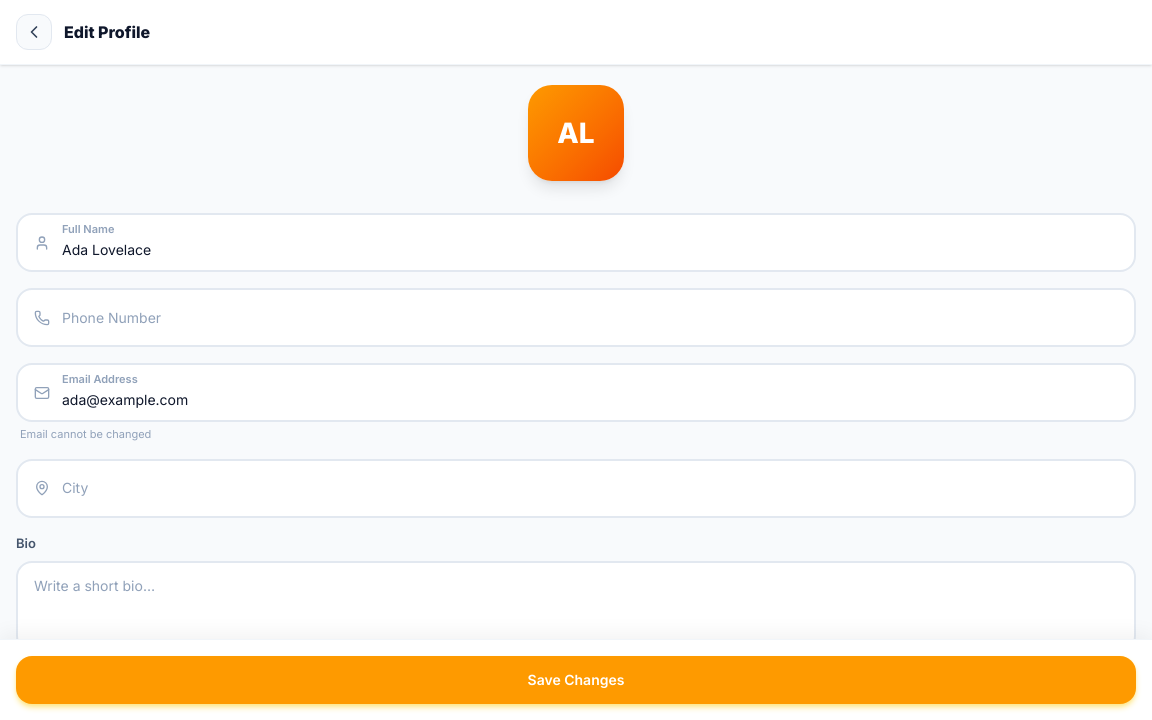
Scenario: EditProfilePage — Save Changes persists › shows the success state ONLY after the backend returns 200 (no fake setTimeout)
Expected: the field showing "Ada Lovelace" is shown, [18, 215, 1134, 270]
Click the button "Save Changes": point(576, 680) [16, 656, 1136, 704]
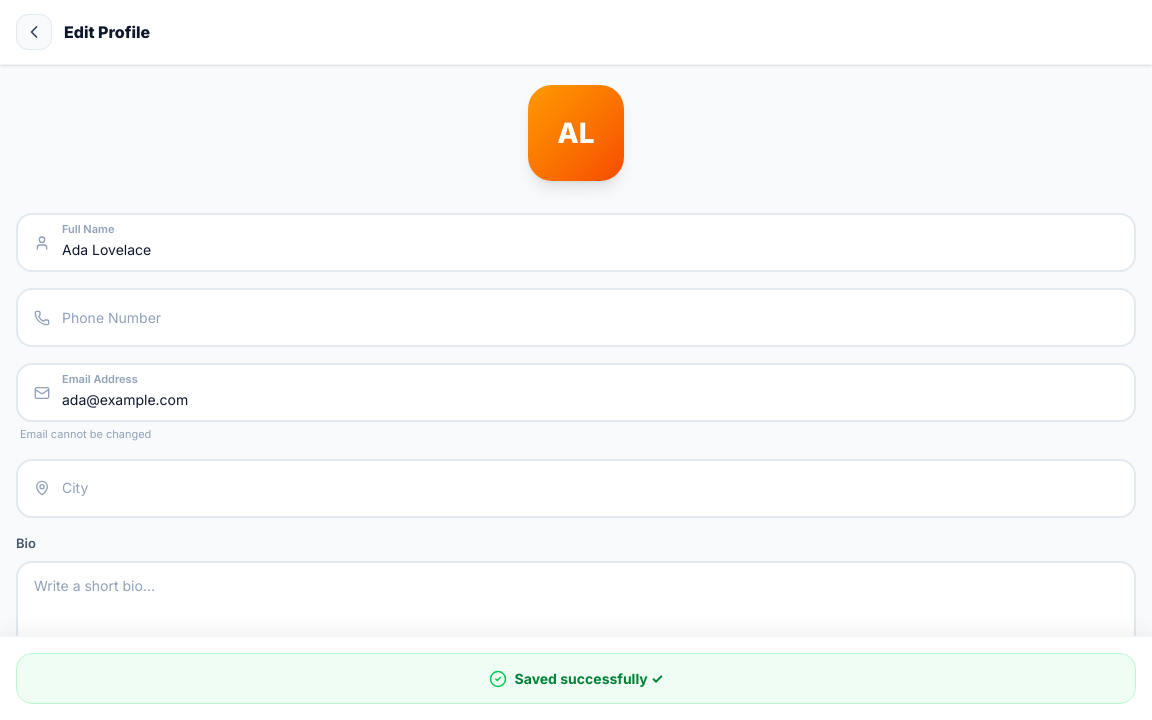
Result: the text "Saved successfully ✓" is shown at [515, 668, 663, 689]
